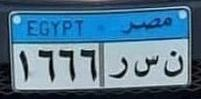1: (21, 49, 30, 81)
6: (57, 48, 76, 83), (79, 48, 97, 83), (39, 49, 56, 82)
noon: (163, 49, 184, 80)
raa: (108, 55, 130, 81)
seen: (132, 53, 159, 77)
